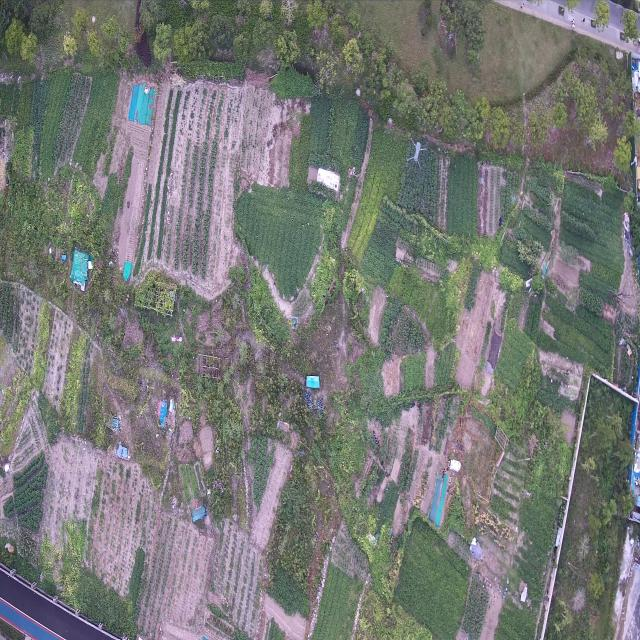UAV: (406, 136, 427, 170)
